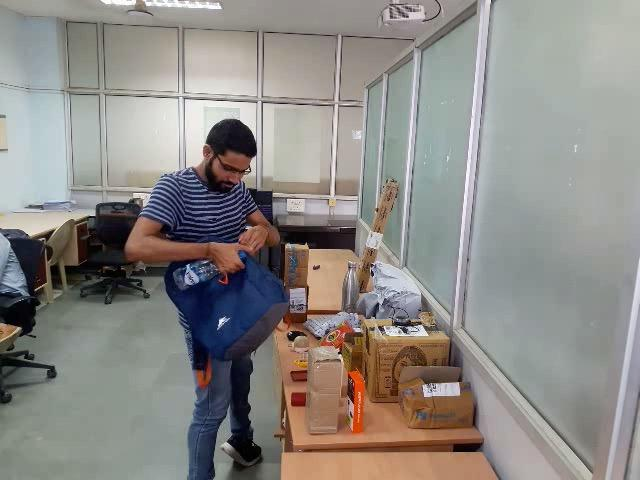shoplifting: (151, 212, 307, 391)
